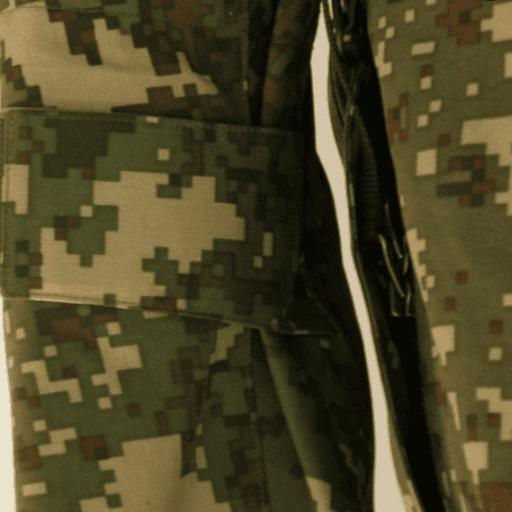korea army: (1, 0, 475, 510)
